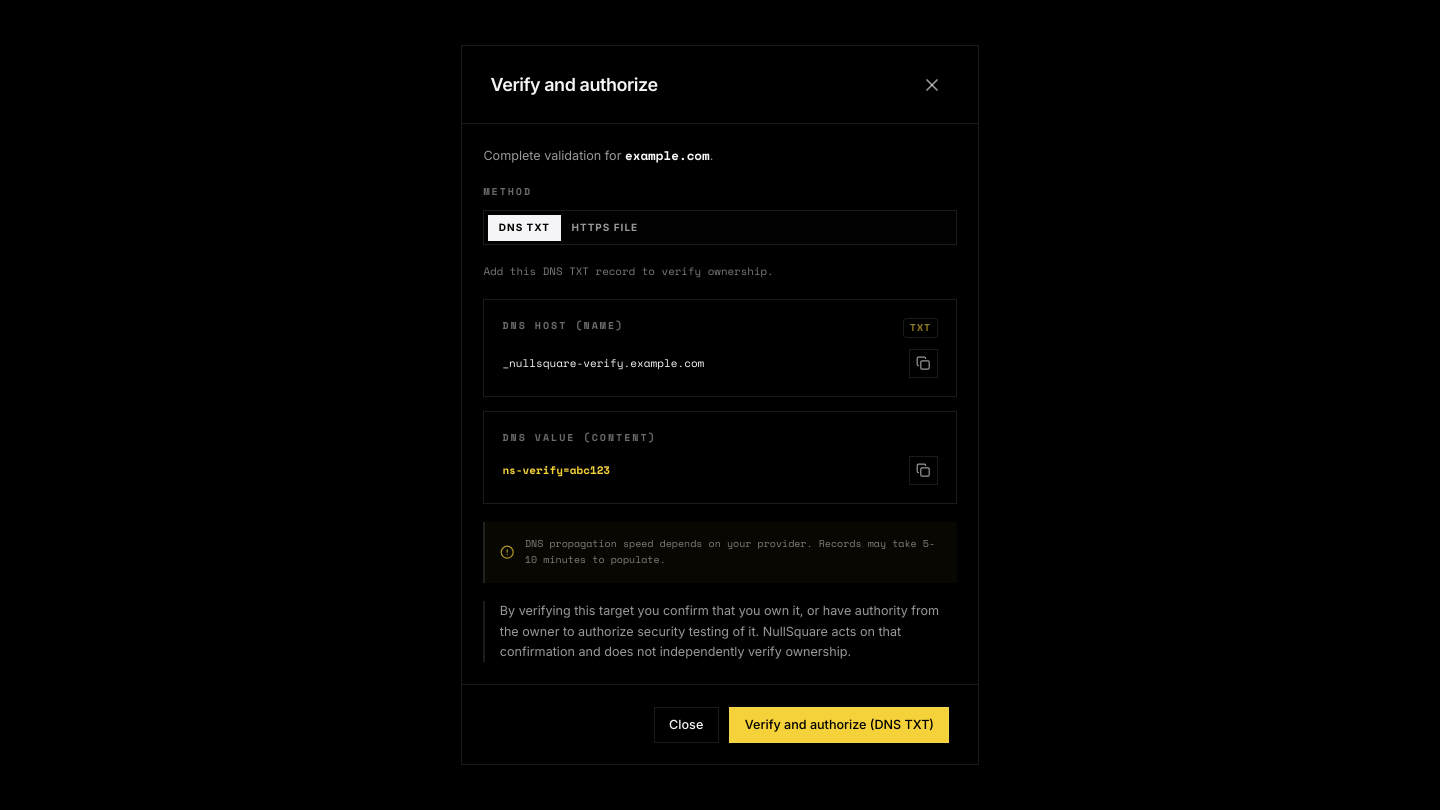
Test case: TargetVerificationModal › offers only DNS TXT and HTTPS file verification, with no hosted-provider path
The width and height of the screenshot is (1440, 810).
Expected: the text "DNS Host (Name)" is shown, [502, 318, 624, 333]
Click the button "HTTPS File": click(605, 228) [561, 215, 649, 241]
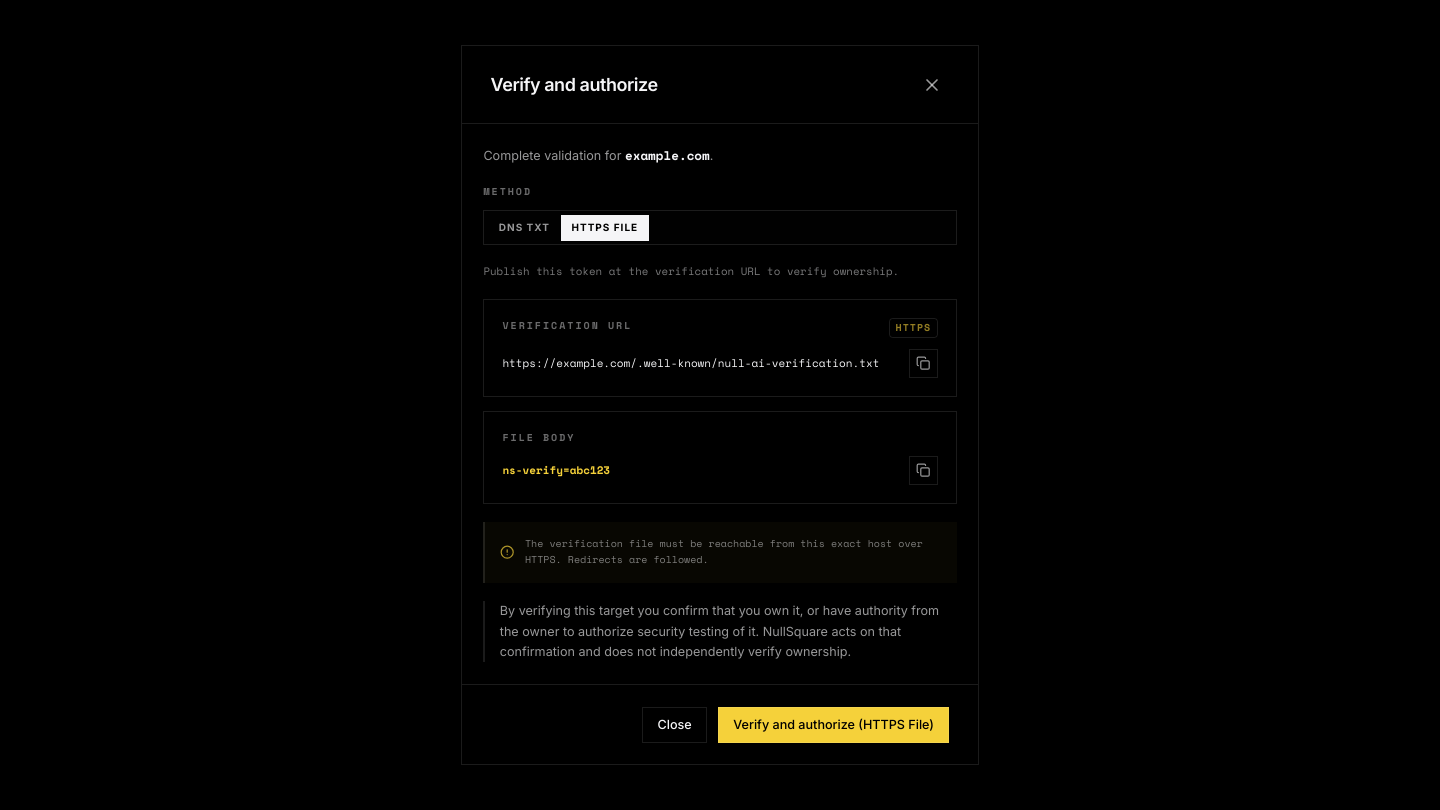
Expected: the text "verification URL" is shown, [483, 263, 899, 279]
Expected: the button "Verify and authorize (HTTPS File)" is shown, [718, 707, 949, 743]
